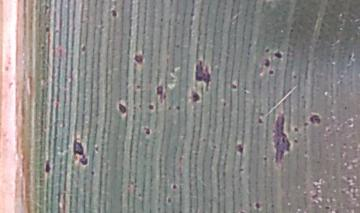tarspot: (267, 112, 292, 173), (192, 57, 215, 93), (72, 139, 90, 169), (41, 156, 55, 175), (154, 84, 166, 105), (188, 88, 203, 103), (308, 111, 322, 126), (132, 52, 145, 65), (274, 48, 284, 63), (228, 80, 239, 93), (252, 199, 263, 212), (116, 102, 129, 113), (169, 180, 179, 194), (164, 194, 176, 205), (234, 142, 244, 155), (262, 56, 271, 70), (254, 115, 264, 126), (109, 8, 119, 19), (80, 44, 89, 56), (144, 126, 152, 137), (146, 103, 156, 111), (289, 72, 299, 80), (221, 100, 229, 109), (44, 24, 51, 33), (324, 204, 333, 211), (239, 166, 245, 176), (265, 46, 271, 55), (267, 69, 276, 75), (304, 121, 310, 129), (293, 126, 299, 134), (293, 137, 299, 145), (175, 104, 181, 112), (269, 202, 275, 210), (261, 156, 267, 162), (167, 105, 172, 111)
